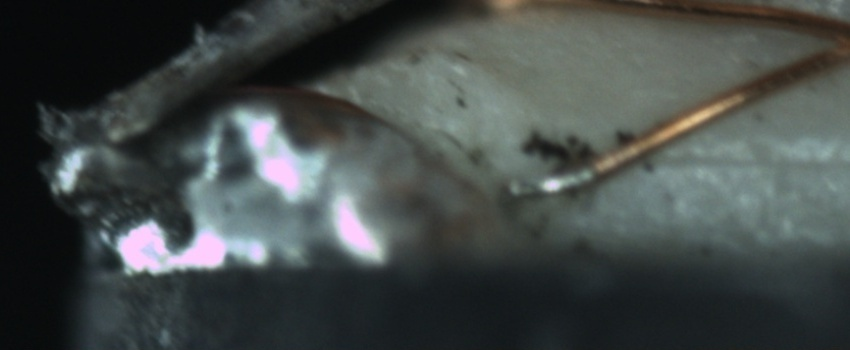DL: (638, 123, 843, 193)
TS: (504, 167, 596, 200)
